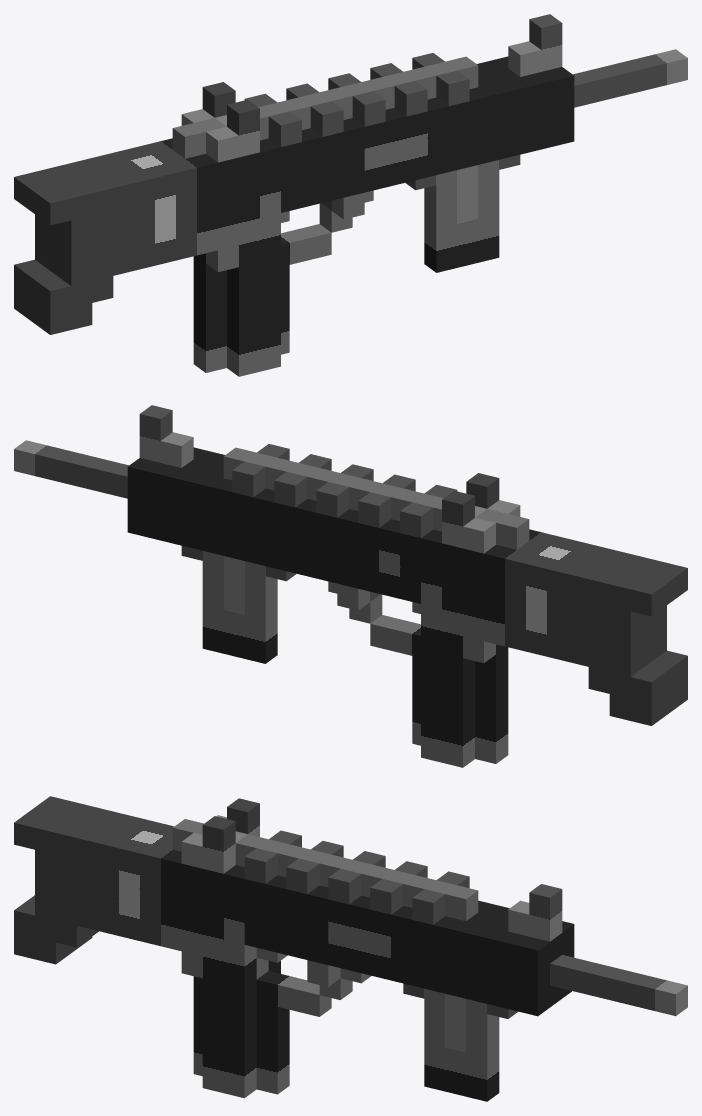
Rendered from Gun2.dae.
3 renders of one model, top to bottom at view 1: azimuth 30°, elevation 25°; view 2: azimuth 150°, elevation 25°; view 3: azimuth 330°, elevation 25°, orthographic.
Visible parts, largest first — view 1: Gun2; view 2: Gun2; view 3: Gun2.
Part boxes in pixels (left/top/right/bottom): Gun2: left=14, top=14, right=687, bottom=376; Gun2: left=14, top=405, right=687, bottom=767; Gun2: left=14, top=796, right=687, bottom=1101.
Bounding box in the file's own units: 3.1 × 0.3 × 1.2.
Materials: 1 (1 with a texture image).
